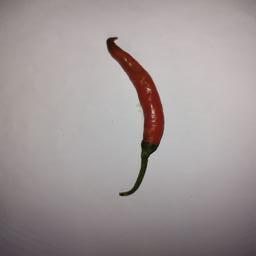Buah Cabai Sehat: (104, 35, 165, 157)
